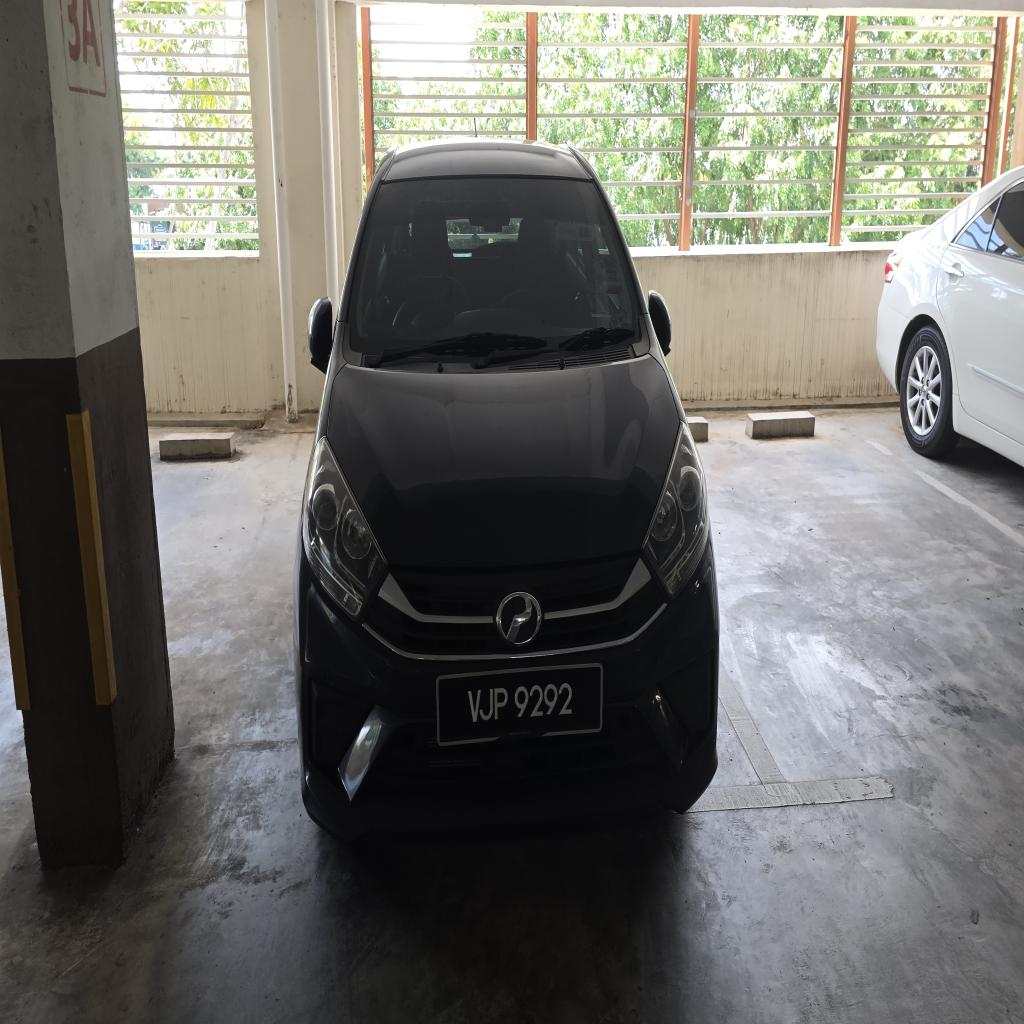car: (295, 140, 717, 838)
car plate: (437, 664, 602, 744)
